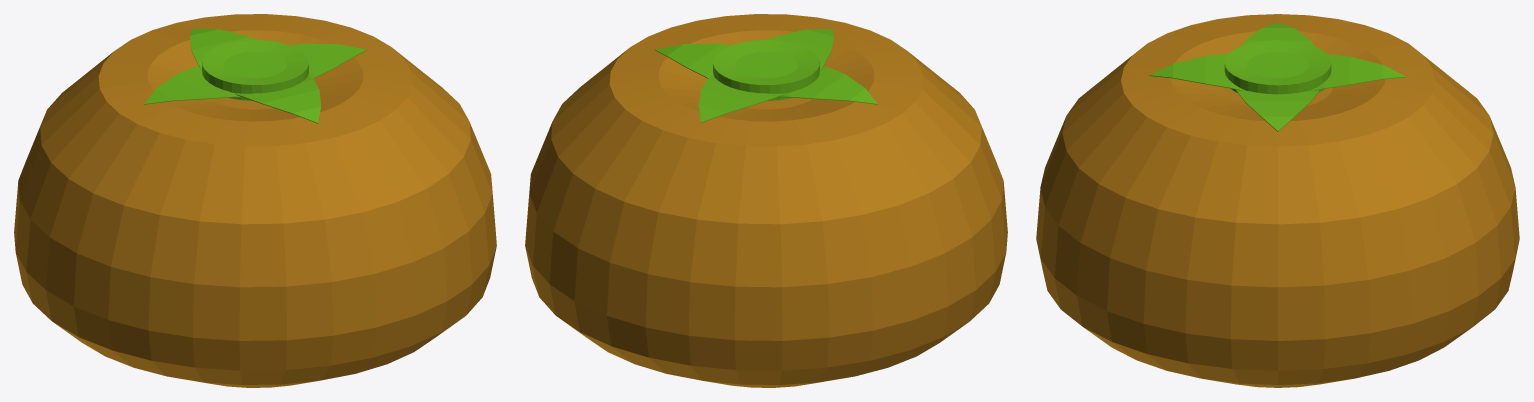
Rendered from Persimmon.fbx.
3 renders of one model, left to right at view 1: azimuth 30°, elevation 25°; view 2: azimuth 150°, elevation 25°; view 3: azimuth 270°, elevation 25°, orthographic.
Visible parts, largest first — view 1: Persimmon; view 2: Persimmon; view 3: Persimmon.
Part boxes in pixels (x1,y1,x2,y2): Persimmon: (14, 14, 496, 387); Persimmon: (525, 14, 1007, 387); Persimmon: (1036, 14, 1519, 387).
Size of the model in its own units: 58.37 by 39.18 by 58.37.
